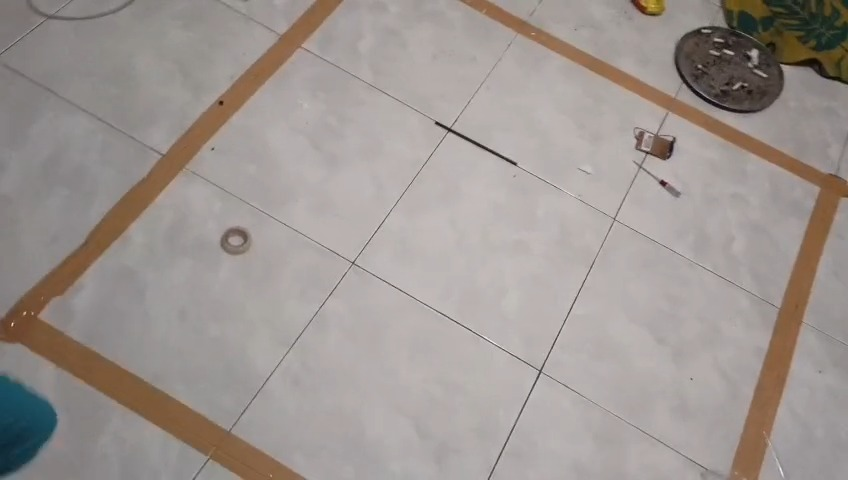floor marking: (460, 0, 847, 479), (0, 0, 342, 479)
